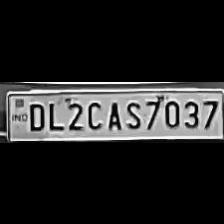0: (160, 96, 180, 128)
2: (64, 97, 84, 130)
3: (181, 96, 199, 128)
7: (142, 96, 160, 130), (201, 96, 219, 128)
A: (104, 98, 122, 130)
C: (84, 97, 104, 129)
D: (24, 99, 46, 131)
L: (45, 98, 63, 130)
S: (122, 97, 142, 129)
